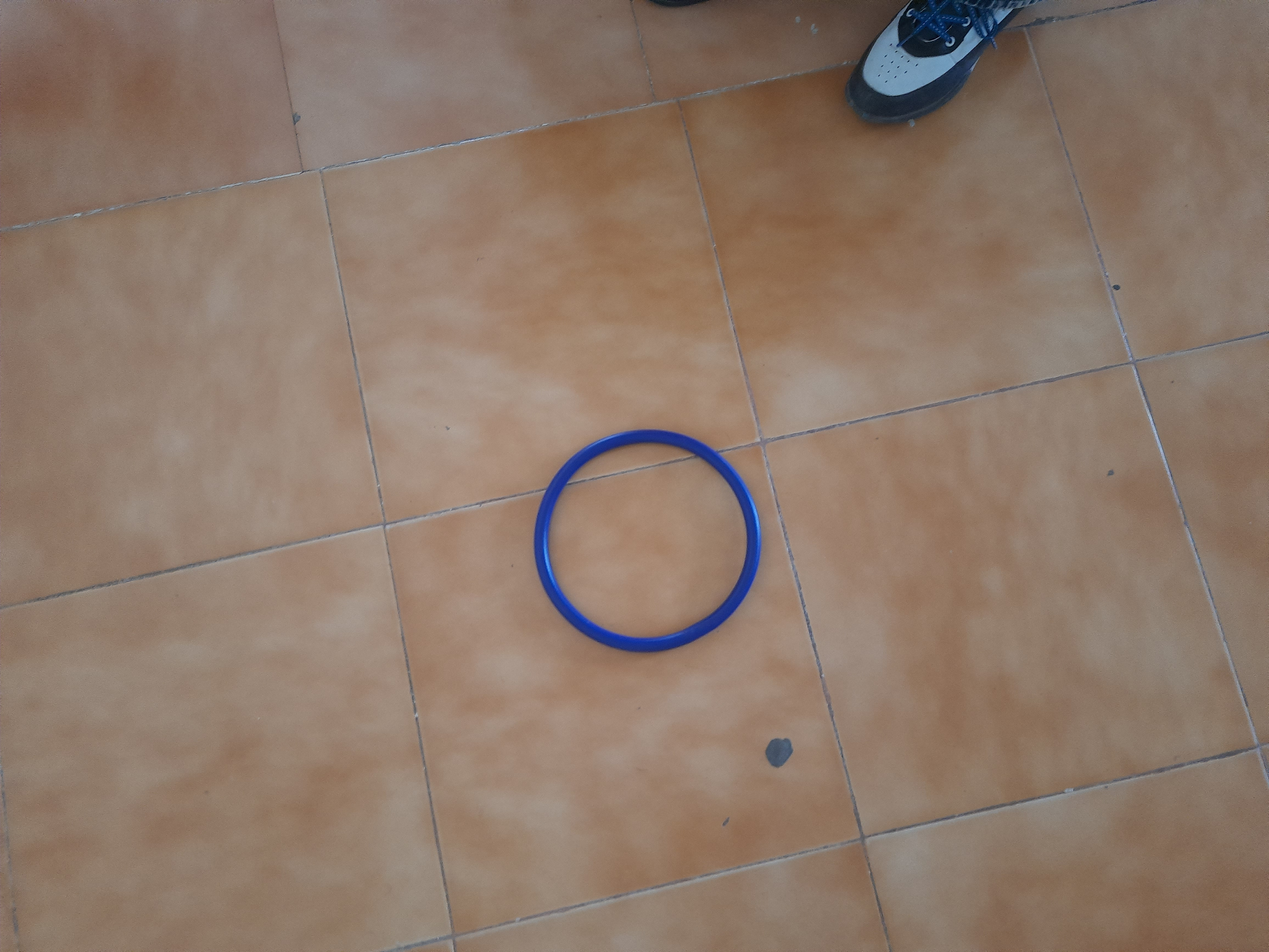Blue ring: (531, 428, 764, 654)
